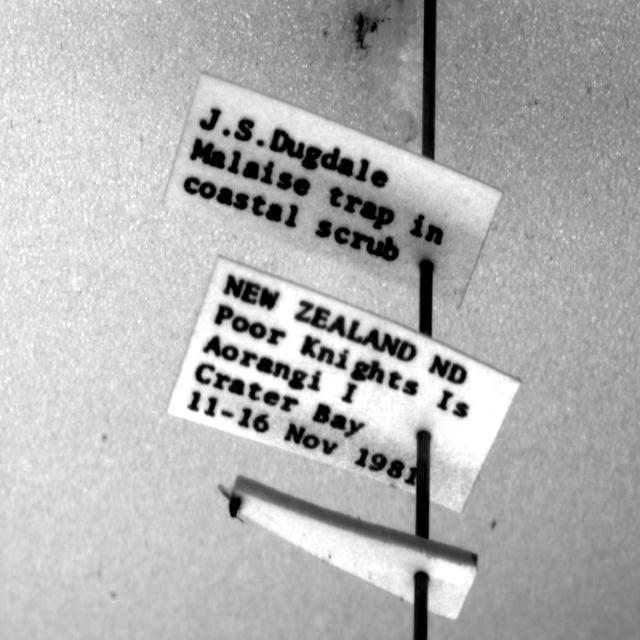typed_label: (169, 257, 519, 512), (165, 75, 501, 306)
